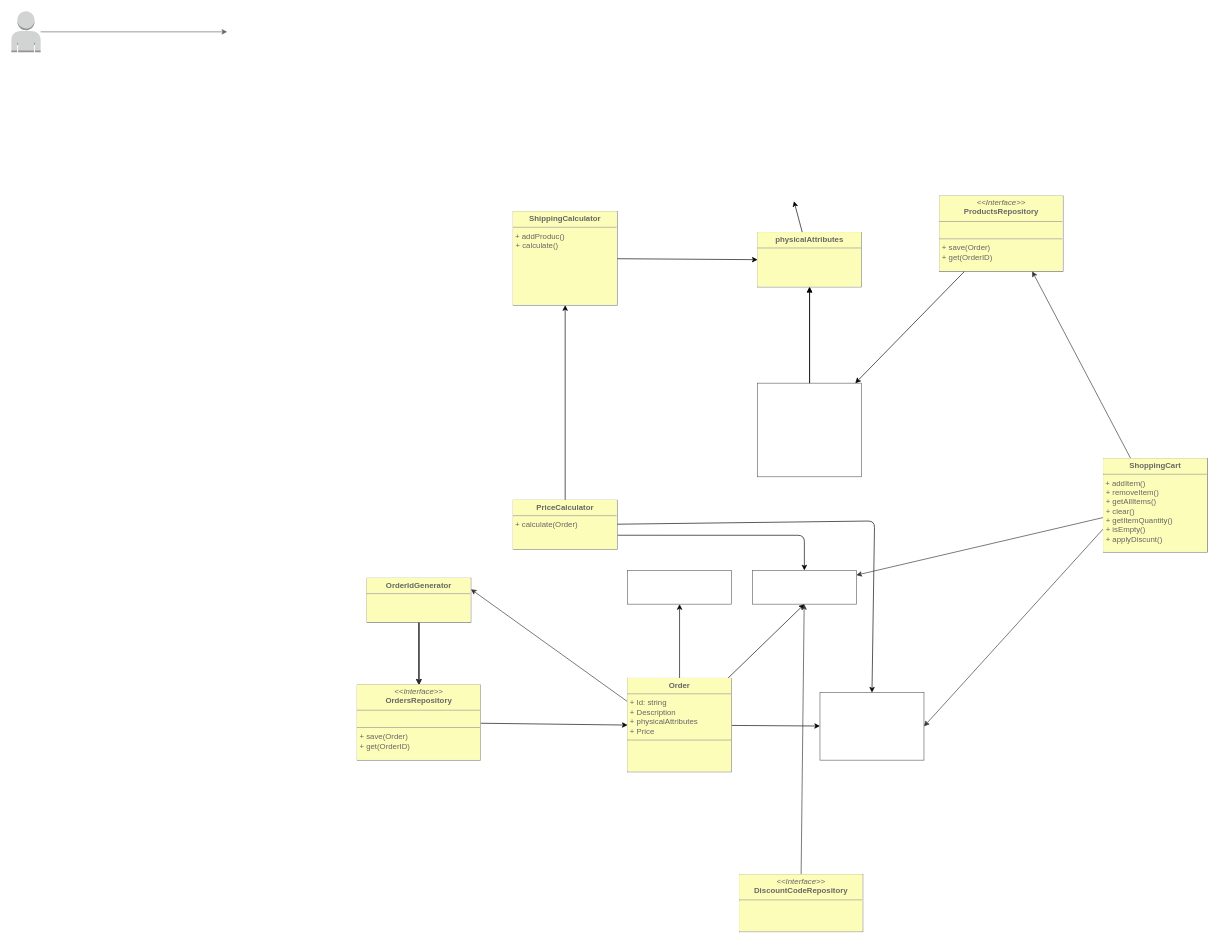
The diagram is 1219 pixels wide and 943 high, and some of its shapes have lost their labels. The shapes that lost their labels are listed below. From the top down, each one's centre as x and y in pixels, then its label:
At point (809, 430): "Product + Id: number + Description + physicalAttributes + Price".
At point (679, 587): "CPF".
At point (804, 587): "DiscountCode".
At point (871, 726): "OrderItem -productId -price -quantity".
